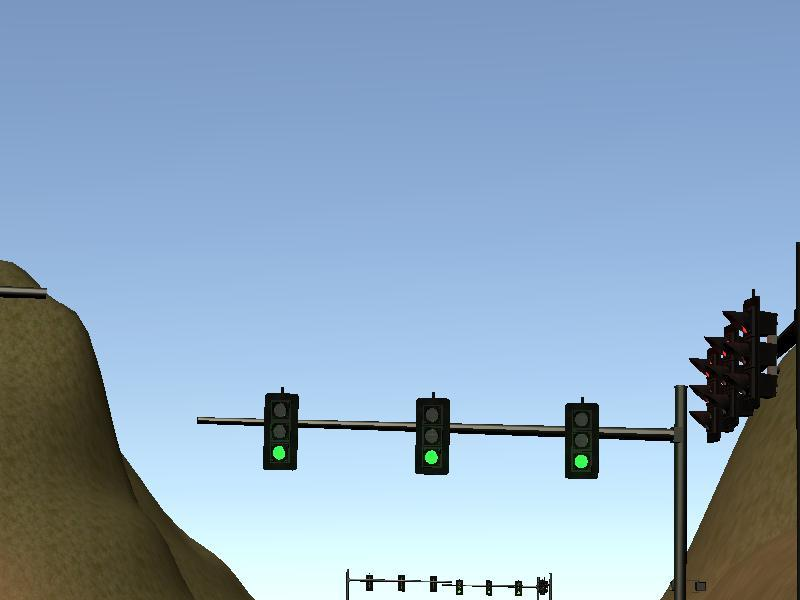Green: (565, 400, 599, 477), (265, 394, 297, 469), (417, 399, 449, 473)
